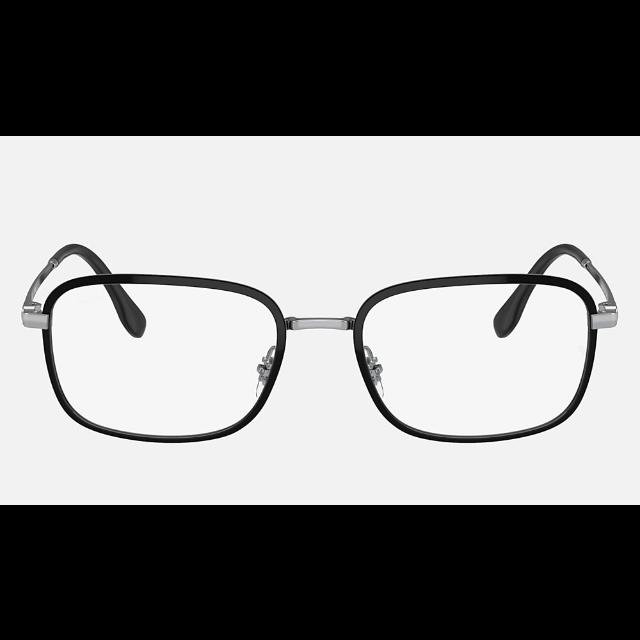glasses: (21, 243, 617, 442)
